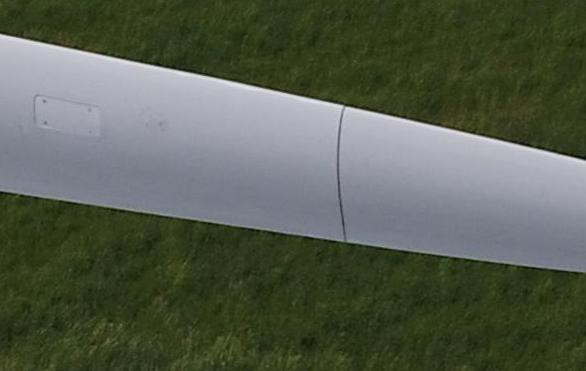damage: (138, 103, 165, 132)
